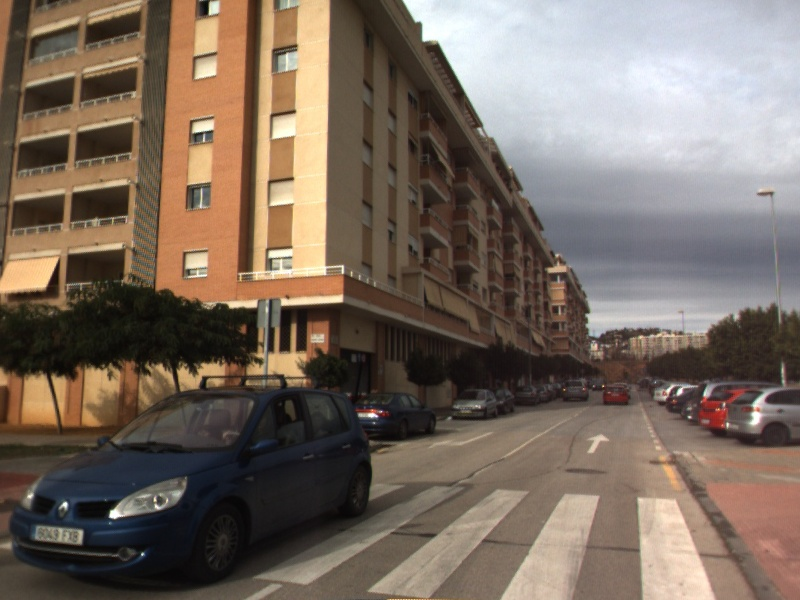STRAIGHT: (584, 431, 612, 455)
